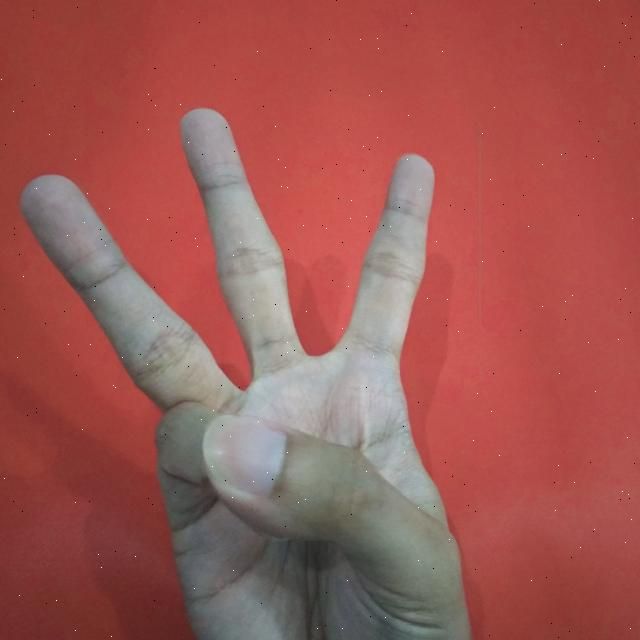W: (17, 100, 473, 640)
